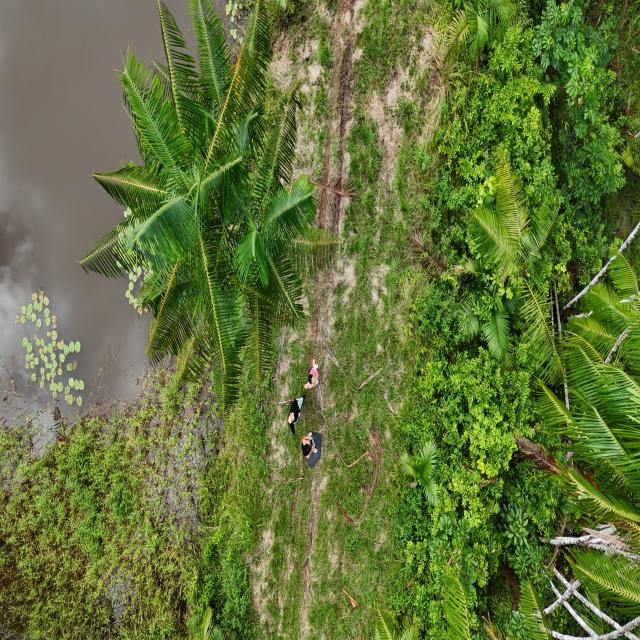vegetation: (75, 0, 346, 420)
